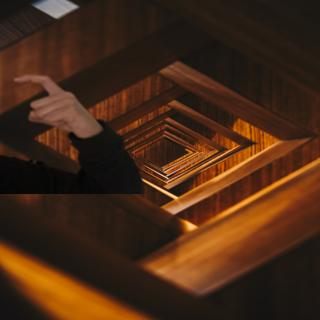WHY: (10, 70, 99, 137)
